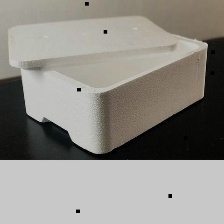foam_box: (3, 10, 211, 157)
